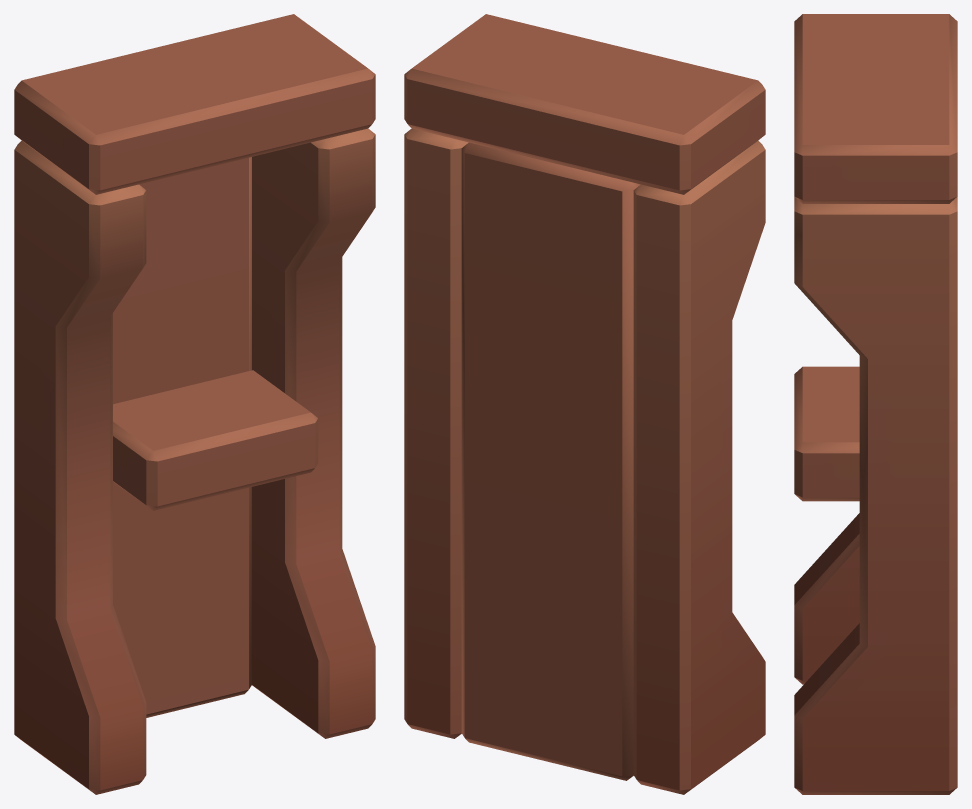
Rendered from bartop_a_small.glb.
The picture shows the model from 3 angles, left to right: view 1: azimuth 30°, elevation 25°; view 2: azimuth 150°, elevation 25°; view 3: azimuth 270°, elevation 25°; orthographic projection.
Visible parts, largest first — view 1: bartop_A_small; view 2: bartop_A_small; view 3: bartop_A_small.
Part boxes in pixels (box(x1,y1,x2,y2)): bartop_A_small: box(14, 14, 375, 794); bartop_A_small: box(404, 14, 765, 794); bartop_A_small: box(794, 14, 957, 794).
Bounding box in the file's own units: 0.9999 × 2.2 × 0.5001.
Materials: 1 (1 with a texture image).
